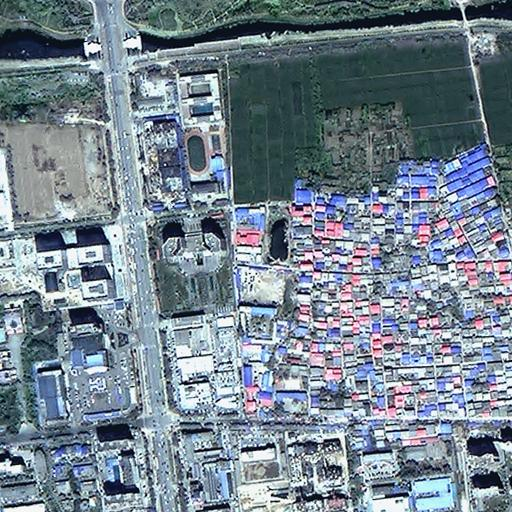school: (177, 68, 225, 199), (271, 373, 310, 415)
